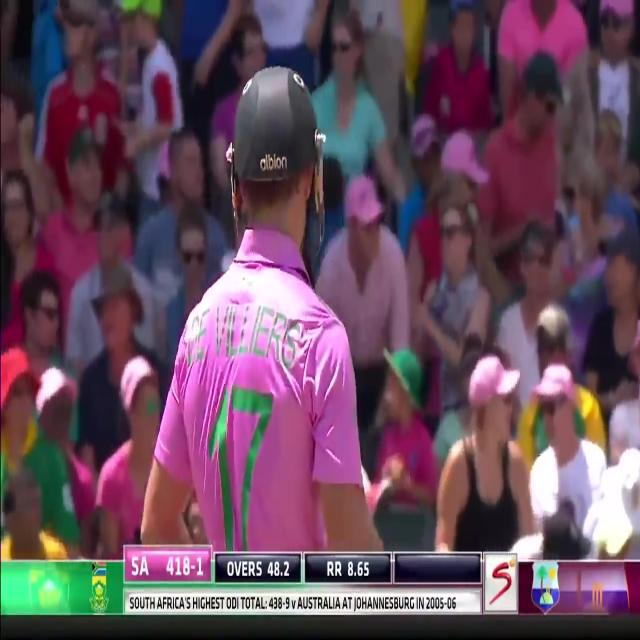Ball: (134, 60, 376, 553)
